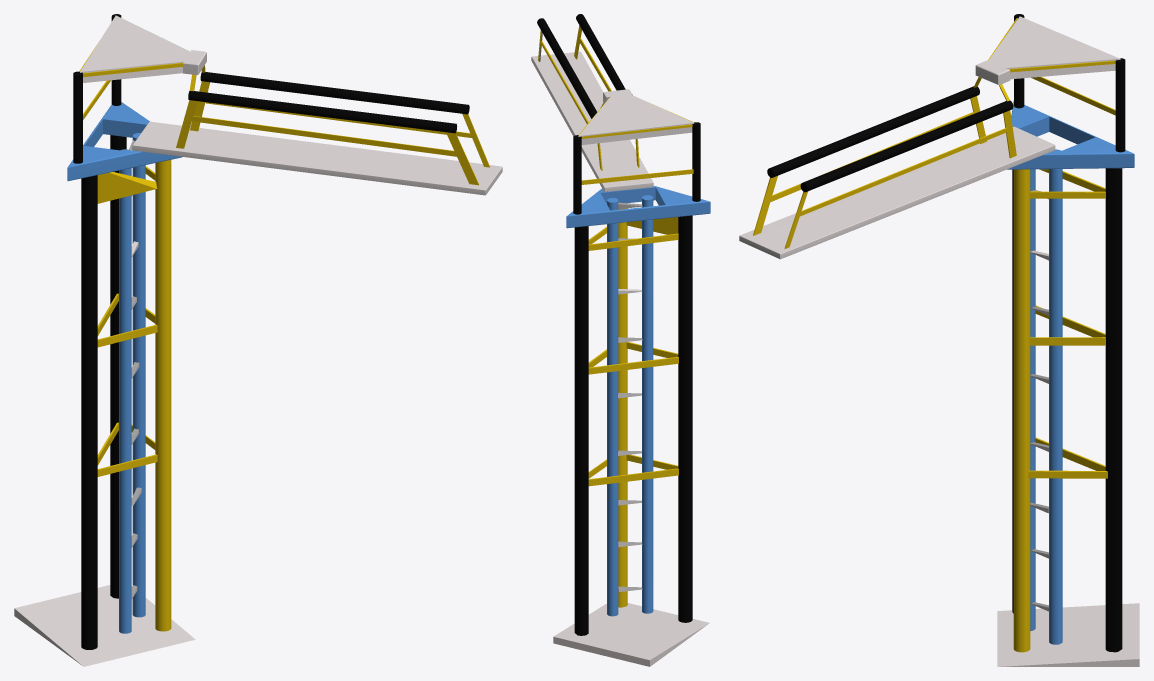
The model's file is crane_LOD2.fbx.
3 views of the same model, side by side, from view 1: azimuth 30°, elevation 25°; view 2: azimuth 150°, elevation 25°; view 3: azimuth 270°, elevation 25° (orthographic). The views are drawn at different scales.
Parts seen in each view (by area): view 1: topPlatofrm2, corner3, corner2, outline, ladderRightPole, ladderLeftPole, sideGuard2, topGuard, corner1, sideGuard1, topPlatform, cornerGuard2; view 2: corner1, corner3, outline, topPlatofrm2, ladderRightPole, ladderLeftPole, topGuard, topPlatform, corner2, cornerGuard1, sideGuard1, sideGuard2 (+1 smaller); view 3: corner1, topPlatofrm2, corner2, outline, ladderLeftPole, topGuard, sideGuard1, topPlatform, sideGuard2, ladderRightPole, cornerGuard1, corner3.
Part boxes in pixels (x1=…): topPlatofrm2: x1=132, y1=121, x2=502, y2=195; corner3: x1=81, y1=172, x2=157, y2=649; corner2: x1=155, y1=160, x2=171, y2=631; outline: x1=14, y1=585, x2=195, y2=666; ladderRightPole: x1=119, y1=149, x2=131, y2=633; ladderLeftPole: x1=132, y1=133, x2=145, y2=617; sideGuard2: x1=176, y1=74, x2=479, y2=185; topGuard: x1=80, y1=15, x2=206, y2=82; corner1: x1=97, y1=135, x2=155, y2=598; sideGuard1: x1=190, y1=65, x2=489, y2=167; topPlatform: x1=67, y1=102, x2=182, y2=181; cornerGuard2: x1=73, y1=62, x2=182, y2=163; corner1: x1=574, y1=226, x2=678, y2=635; corner3: x1=626, y1=215, x2=692, y2=622; outline: x1=553, y1=603, x2=709, y2=666; topPlatofrm2: x1=531, y1=51, x2=653, y2=191; ladderRightPole: x1=642, y1=195, x2=653, y2=613; ladderLeftPole: x1=607, y1=198, x2=618, y2=616; topGuard: x1=578, y1=89, x2=694, y2=144; topPlatform: x1=566, y1=186, x2=710, y2=228; corner2: x1=618, y1=208, x2=627, y2=607; cornerGuard1: x1=573, y1=98, x2=693, y2=214; sideGuard1: x1=537, y1=18, x2=603, y2=170; sideGuard2: x1=574, y1=14, x2=639, y2=167; corner1: x1=1028, y1=168, x2=1122, y2=652; topPlatofrm2: x1=739, y1=126, x2=1055, y2=259; corner2: x1=1013, y1=169, x2=1030, y2=652; outline: x1=997, y1=603, x2=1139, y2=666; ladderLeftPole: x1=1049, y1=149, x2=1062, y2=644; topGuard: x1=975, y1=16, x2=1120, y2=85; sideGuard1: x1=784, y1=84, x2=1016, y2=248; topPlatform: x1=1007, y1=100, x2=1134, y2=169; sideGuard2: x1=753, y1=77, x2=986, y2=235; ladderRightPole: x1=1030, y1=169, x2=1035, y2=630; cornerGuard1: x1=1009, y1=58, x2=1125, y2=152; corner3: x1=1012, y1=169, x2=1013, y2=613.
Size of the model in its own units: 22.55 by 39.23 by 23.79.
